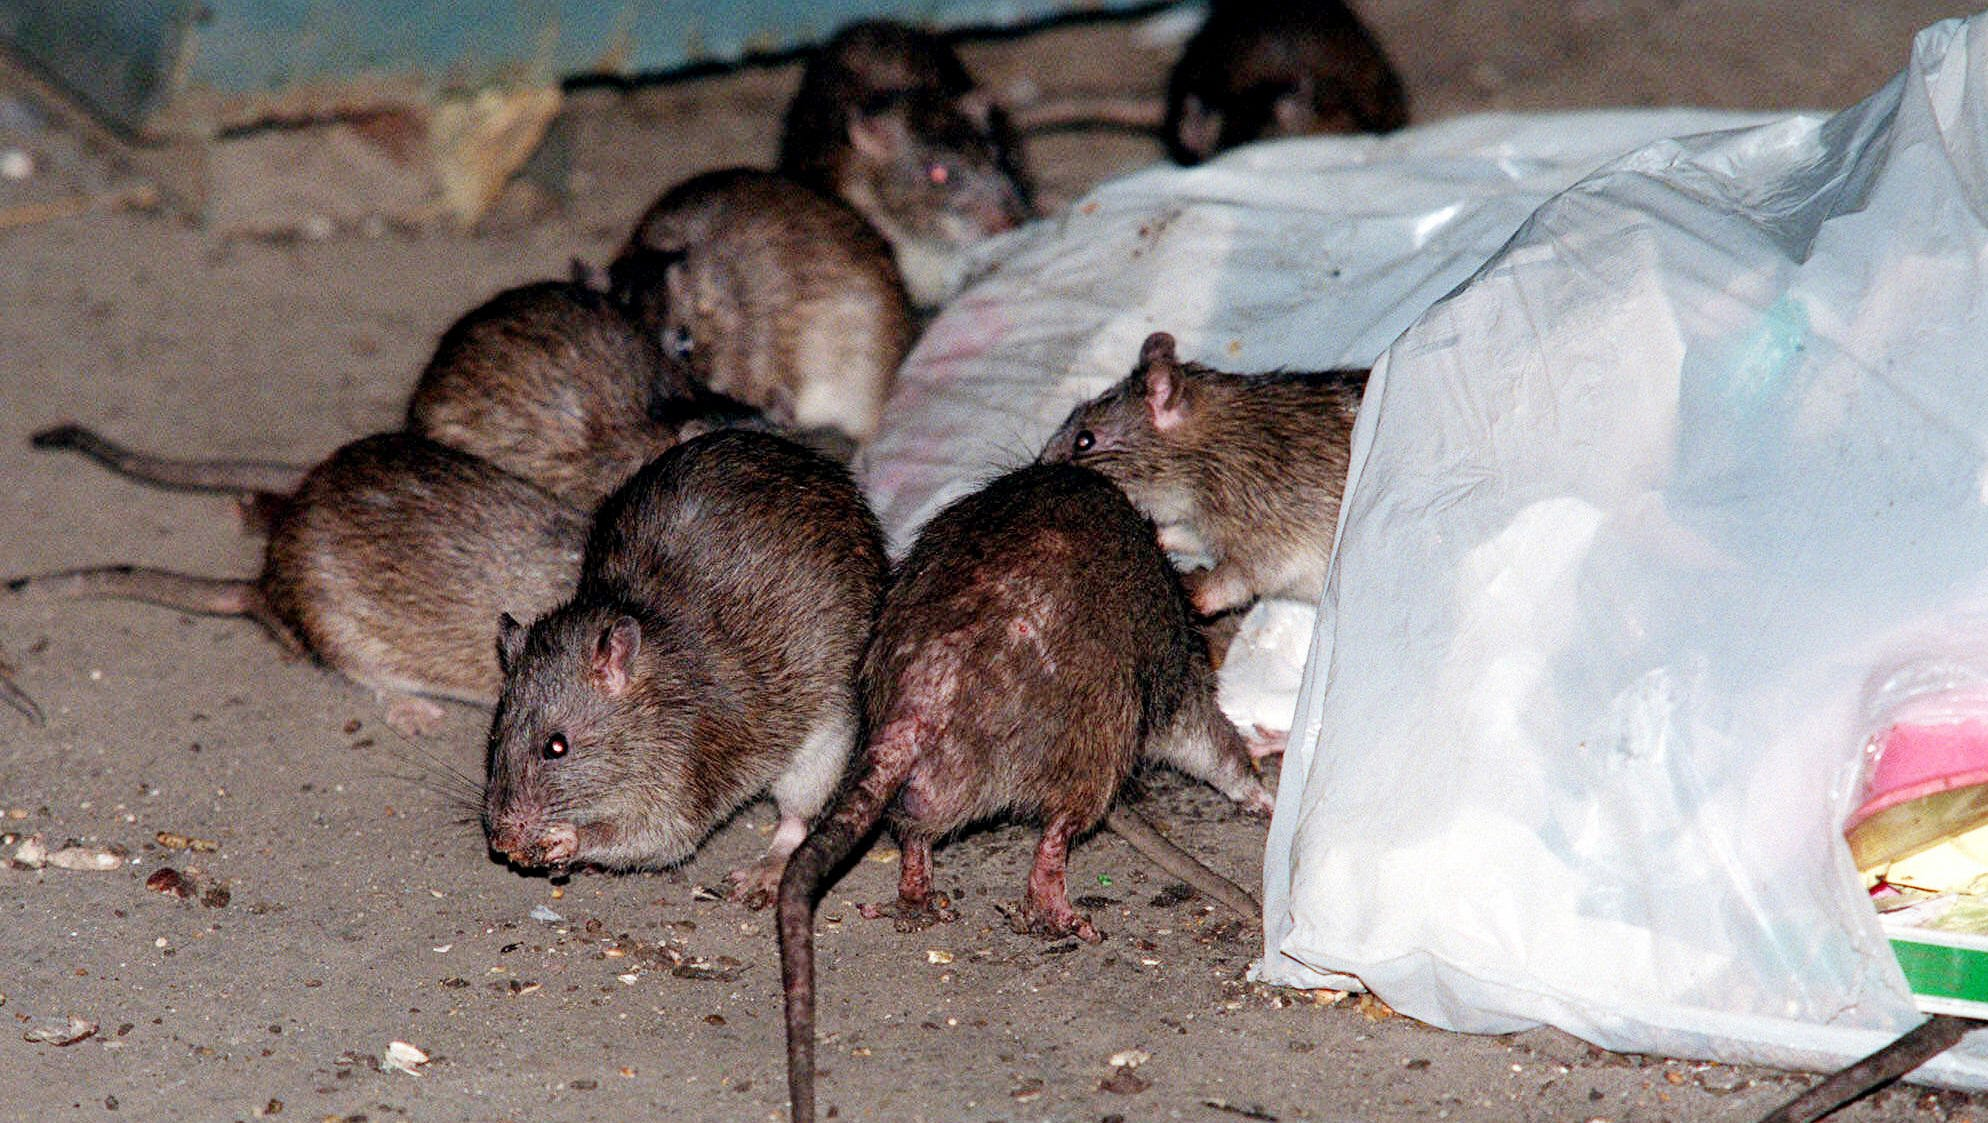Rat: (460, 399, 918, 909)
